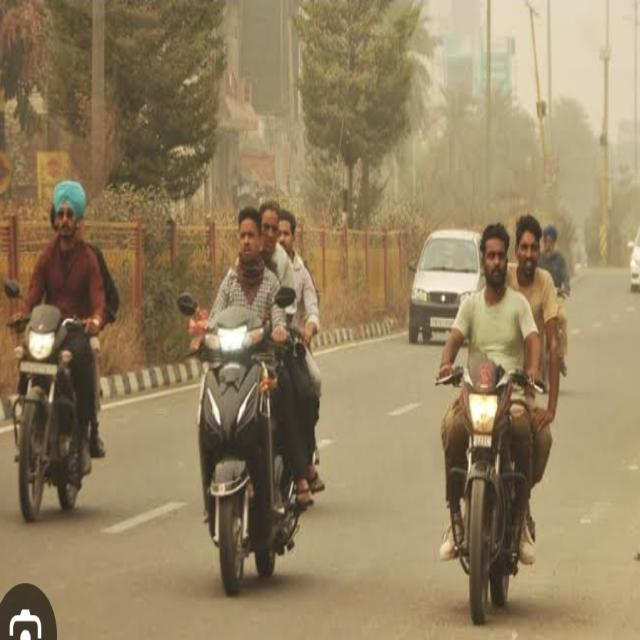WithoutHelmet: (435, 225, 553, 564), (4, 181, 112, 486), (279, 209, 324, 497), (207, 207, 296, 352), (508, 215, 561, 432), (539, 227, 571, 379), (260, 204, 297, 297)
